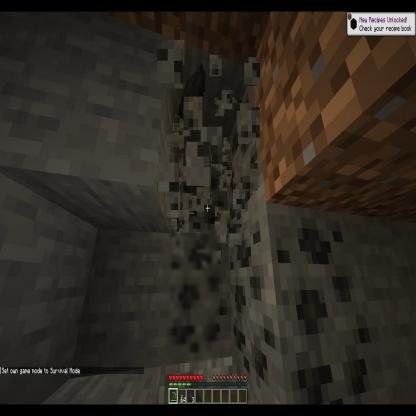coal ore: (218, 202, 386, 414), (164, 233, 236, 363)
